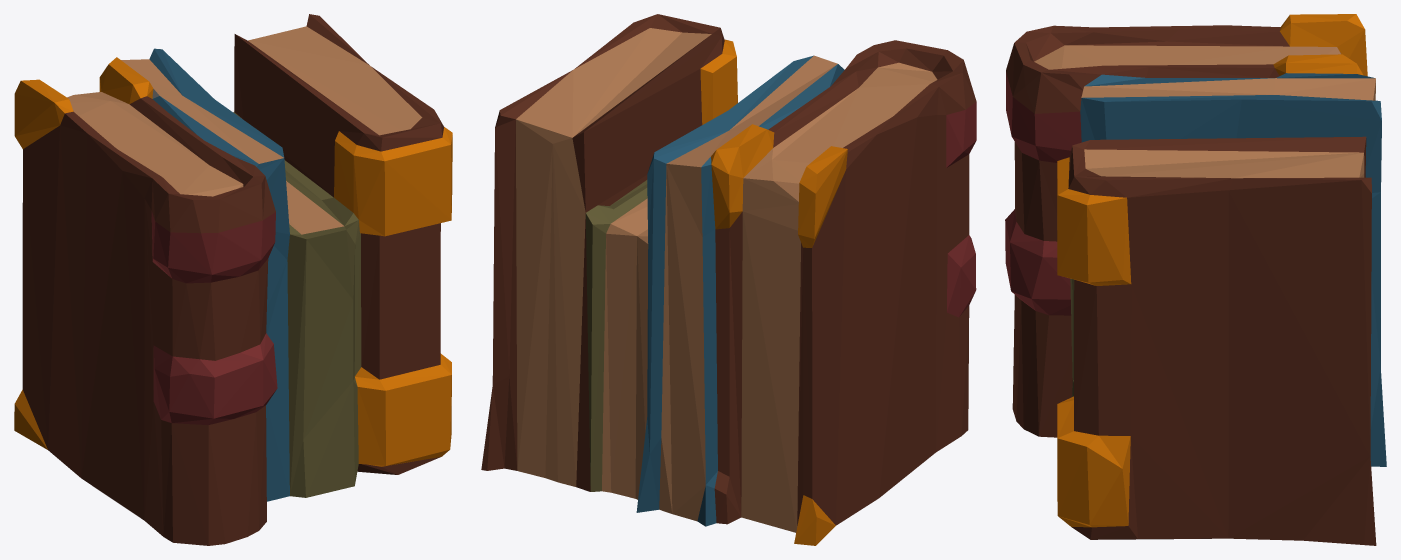
The model's file is MDungeon_BookSet_01.FBX.
The picture shows the model from 3 angles, left to right: view 1: azimuth 30°, elevation 25°; view 2: azimuth 150°, elevation 25°; view 3: azimuth 270°, elevation 25°; orthographic projection. The views are drawn at different scales.
Parts seen in each view (by area): view 1: MDgn_BookSet_01_LOD0; view 2: MDgn_BookSet_01_LOD0; view 3: MDgn_BookSet_01_LOD0.
Boxes of the visible parts, bbox=[...] form: MDgn_BookSet_01_LOD0: bbox=[14, 14, 452, 545]; MDgn_BookSet_01_LOD0: bbox=[481, 14, 976, 545]; MDgn_BookSet_01_LOD0: bbox=[1005, 14, 1386, 545].
Size of what is drawn, in the model's own units: 0.5007 by 0.5393 by 0.4971.
